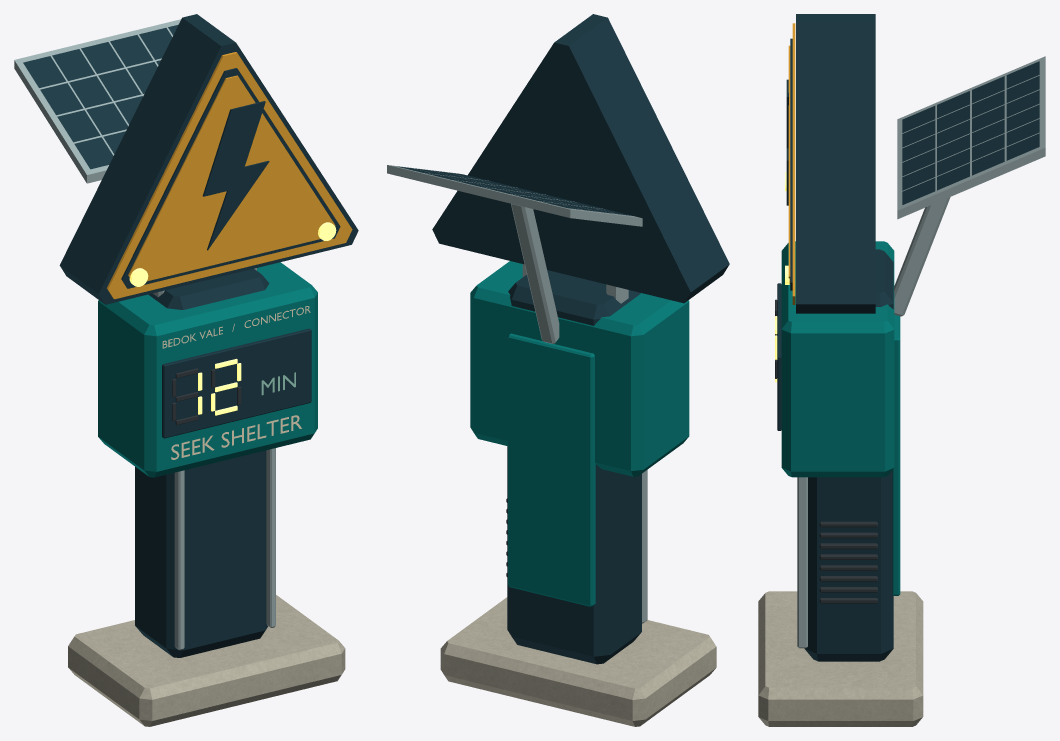
3 renders of one model, left to right at view 1: azimuth 30°, elevation 25°; view 2: azimuth 150°, elevation 25°; view 3: azimuth 270°, elevation 25°, orthographic. The views are drawn at different scales.
Visible parts, largest first — view 1: Layered amber surround, Service trunk, Control housing, Equipment pad, Cast warning head, Solar cells, Smoked timer lens, Lightning flash, PV rails, Alloy corner rubrails, Alert legends, Timer segments (+1 smaller); view 2: Cast warning head, Control housing, Rear service hatch, Equipment pad, Service trunk, Solar support, PV rails, Solar cells, Alloy corner rubrails; view 3: Cast warning head, Control housing, Equipment pad, Service trunk, Solar cells, PV rails, Side louvres, Solar support, Rear service hatch, Layered amber surround, Alloy corner rubrails, Smoked timer lens.
Boxes of the visible parts, x1=… form: Layered amber surround: x1=107, y1=52, x2=352, y2=299; Service trunk: x1=135, y1=268, x2=269, y2=657; Control housing: x1=98, y1=262, x2=317, y2=477; Equipment pad: x1=68, y1=595, x2=345, y2=726; Cast warning head: x1=59, y1=14, x2=358, y2=304; Solar cells: x1=23, y1=24, x2=178, y2=169; Smoked timer lens: x1=162, y1=328, x2=311, y2=438; Lightning flash: x1=202, y1=101, x2=269, y2=250; PV rails: x1=14, y1=19, x2=180, y2=183; Alloy corner rubrails: x1=174, y1=448, x2=275, y2=650; Alert legends: x1=162, y1=306, x2=310, y2=459; Timer segments: x1=172, y1=358, x2=241, y2=425; Cast warning head: x1=432, y1=14, x2=729, y2=303; Control housing: x1=470, y1=261, x2=689, y2=476; Rear service hatch: x1=508, y1=333, x2=595, y2=606; Equipment pad: x1=440, y1=597, x2=716, y2=726; Service trunk: x1=507, y1=270, x2=641, y2=664; Solar support: x1=511, y1=203, x2=559, y2=343; PV rails: x1=387, y1=165, x2=642, y2=226; Solar cells: x1=397, y1=166, x2=632, y2=215; Alloy corner rubrails: x1=642, y1=470, x2=647, y2=623; Cast warning head: x1=796, y1=14, x2=875, y2=313; Control housing: x1=781, y1=241, x2=894, y2=477; Equipment pad: x1=758, y1=591, x2=923, y2=726; Service trunk: x1=804, y1=249, x2=893, y2=661; Solar cells: x1=902, y1=61, x2=1039, y2=204; PV rails: x1=897, y1=56, x2=1045, y2=219; Side louvres: x1=819, y1=521, x2=877, y2=603; Solar support: x1=894, y1=197, x2=950, y2=316; Rear service hatch: x1=892, y1=314, x2=900, y2=595; Layered amber surround: x1=788, y1=23, x2=795, y2=304; Alloy corner rubrails: x1=797, y1=477, x2=807, y2=648; Smoked timer lens: x1=777, y1=283, x2=781, y2=430.
Size of the model in its own units: 1.3 by 3.1 by 1.22.
Materials: 9 (1 with a texture image).
